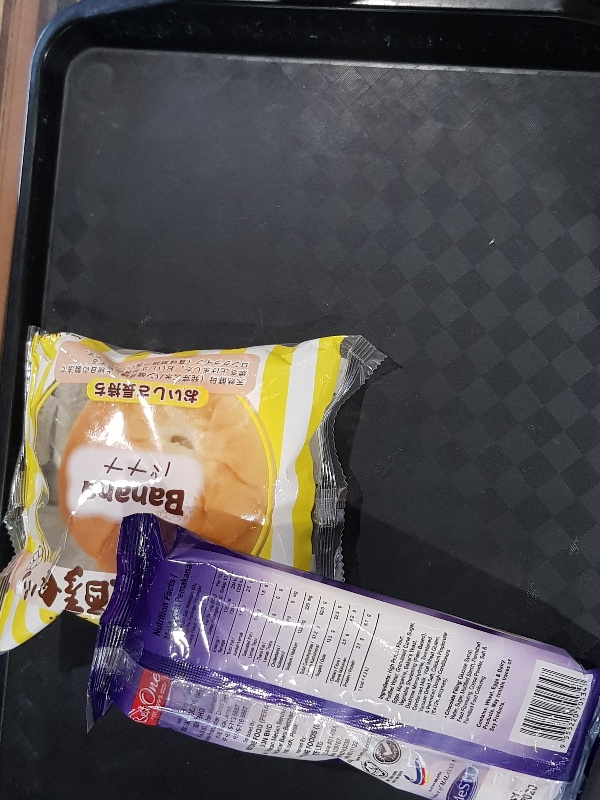Dayplus Banana: (2, 319, 389, 651)
Tinges Roll Chocolate: (82, 513, 600, 799)
